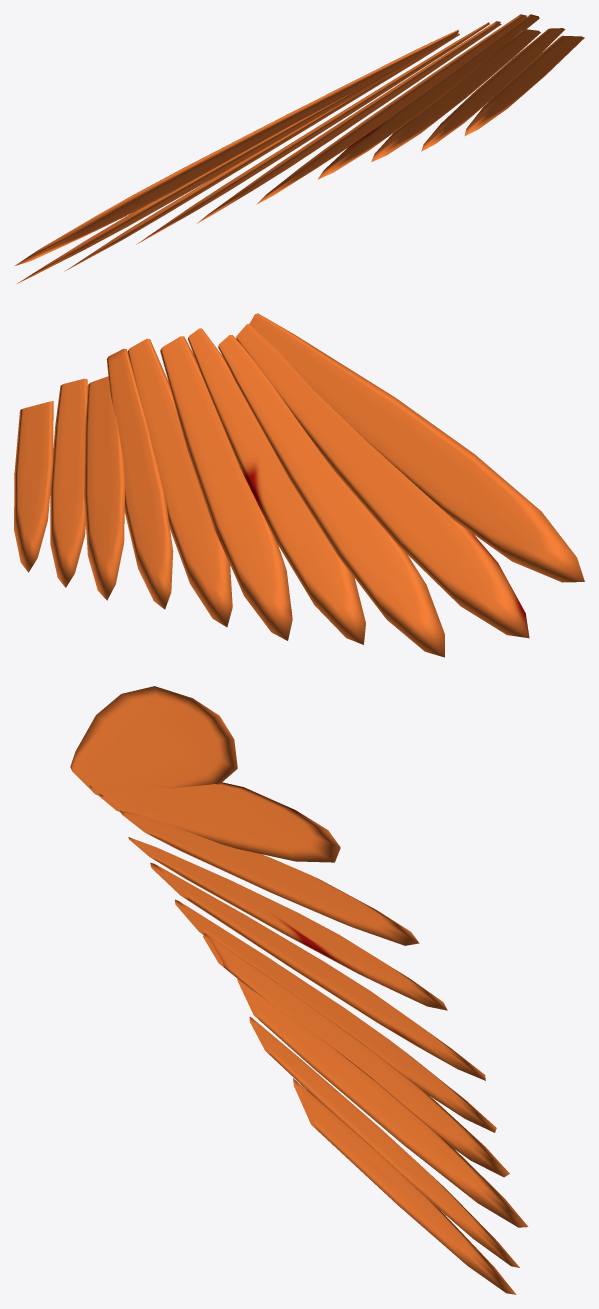
Rendered from alaDer_pajaro_tel.obj.
3 views of the same model, one above another, from view 1: azimuth 30°, elevation 25°; view 2: azimuth 150°, elevation 25°; view 3: azimuth 270°, elevation 25° (orthographic). The views are drawn at different scales.
Visible parts, largest first — view 1: polySurface14; view 2: polySurface14; view 3: polySurface14.
Part boxes in pixels (x1=…): polySurface14: x1=15, y1=14, x2=584, y2=283; polySurface14: x1=14, y1=313, x2=584, y2=657; polySurface14: x1=70, y1=686, x2=528, y2=1294.
Bounding box in the file's own units: 11.21 × 4.34 × 4.11.
Materials: 1 (1 with a texture image).
